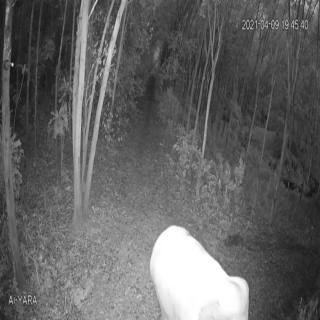Elephant: (147, 218, 251, 320)
